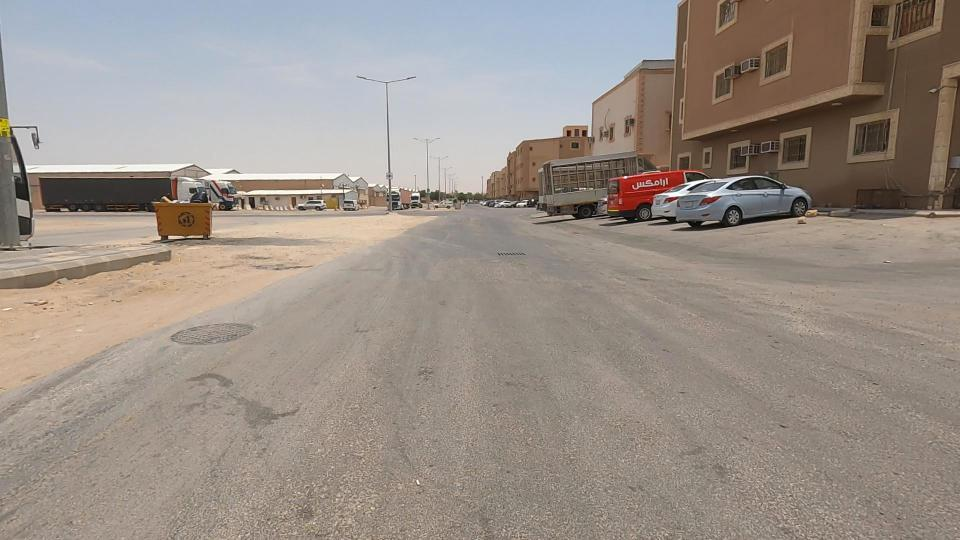CLUTTER_SIDEWALK: (0, 216, 316, 357), (198, 215, 425, 280)
